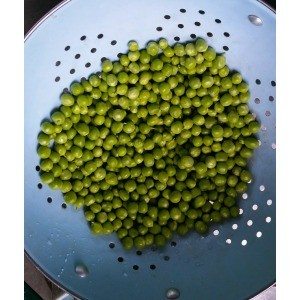green pea_brain food: (114, 100, 206, 190)
